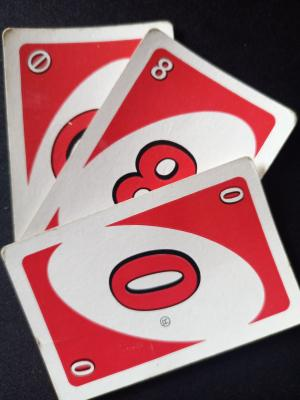num_0: (217, 182, 247, 208), (68, 355, 97, 381)
num_8: (147, 52, 179, 85)
red: (20, 26, 299, 332)
skip: (24, 48, 58, 79)
